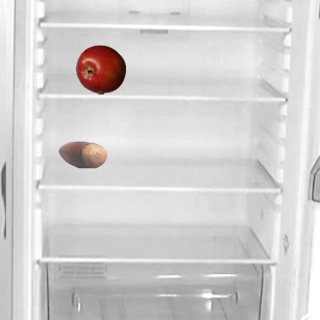Apple Braeburn: (75, 44, 125, 94)
Hazelnut: (57, 129, 107, 179)
